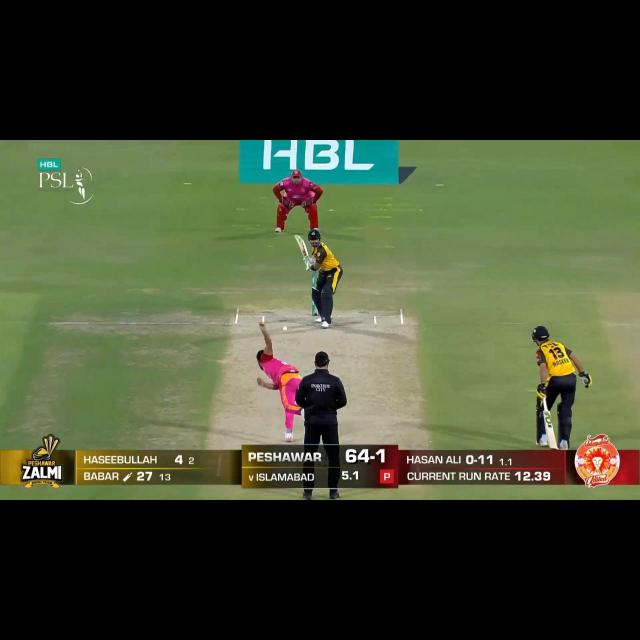bat: (542, 410, 560, 450), (294, 233, 310, 257)
toe: (548, 439, 558, 449), (293, 232, 301, 243)
